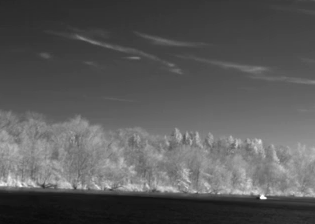Target: (260, 195, 266, 198)
